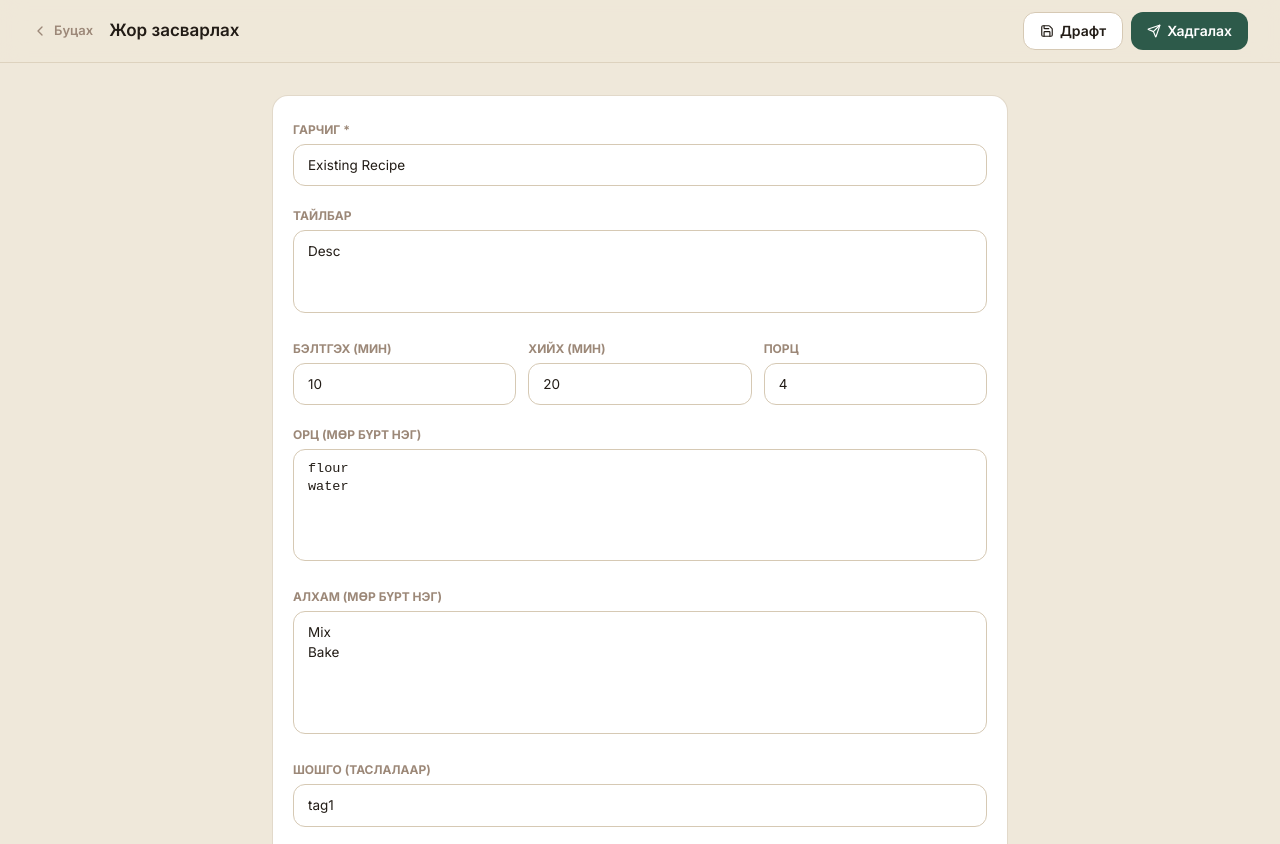
EditRecipePage — update recipe › shows error when steps are cleared on publish
Expected: the field showing "Existing Recipe" below "Гарчиг *" is shown, [293,144,987,186]
Clear the text box named "Алхам" at point(640, 673), box [293,611,987,734]
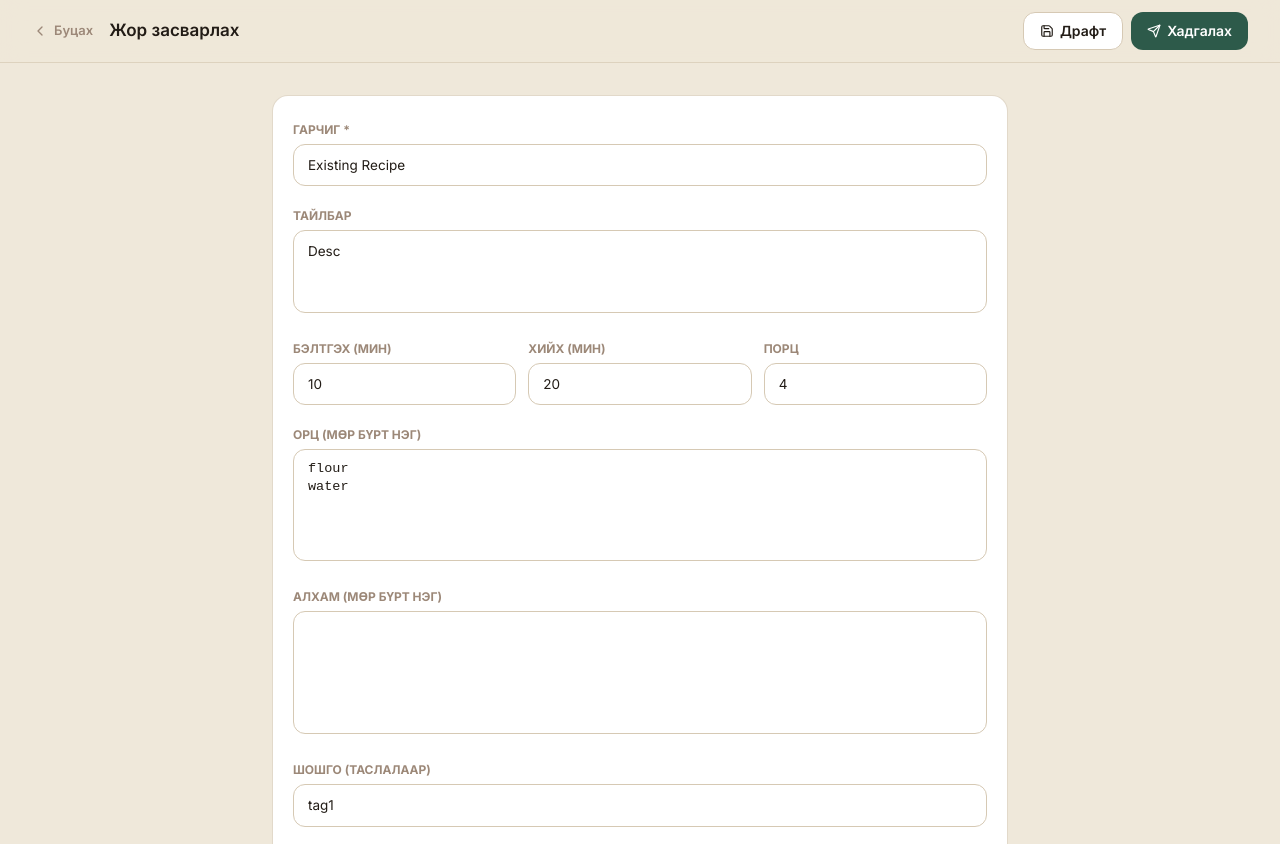
Click the button "Хадгалах" at point(1190, 31), box [1131,12,1248,50]
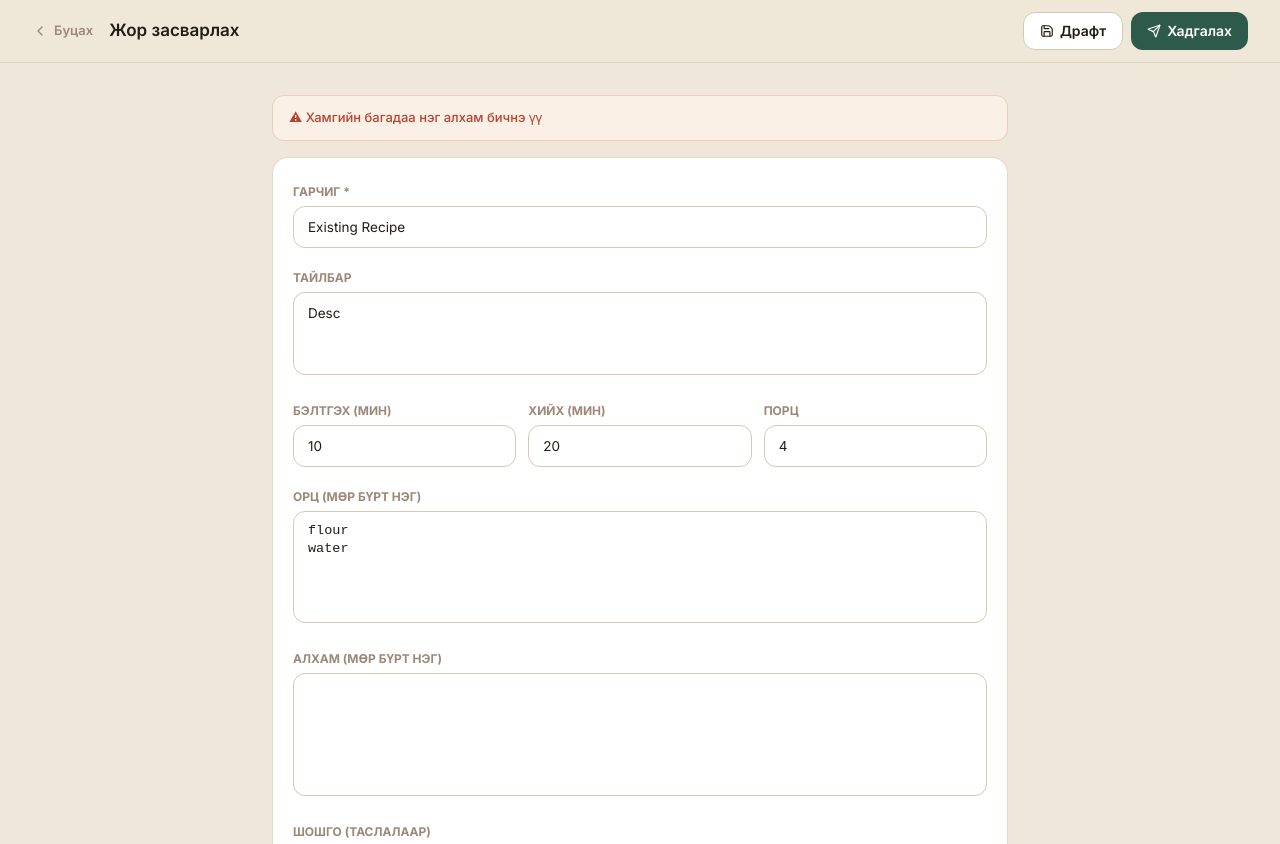
Result: the text "⚠ Хамгийн багадаа нэг алхам бичнэ үү" is shown at [272,95,1008,140]
